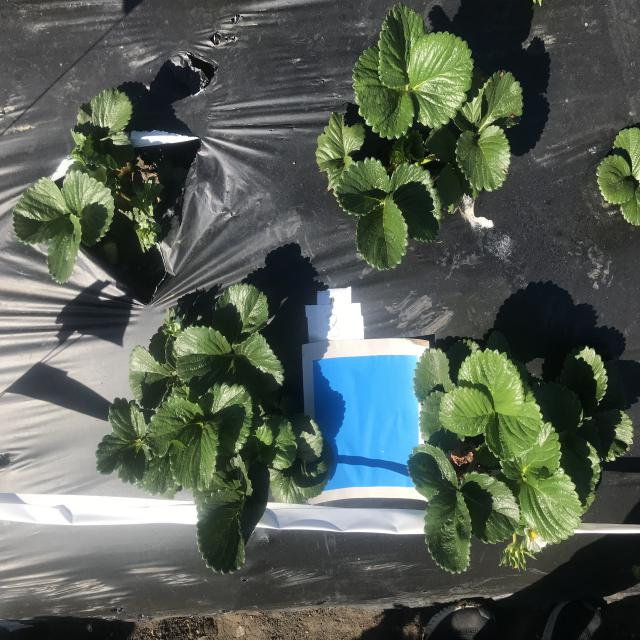partially-ripe: (525, 524, 548, 553)
ripe: (103, 242, 120, 267)
